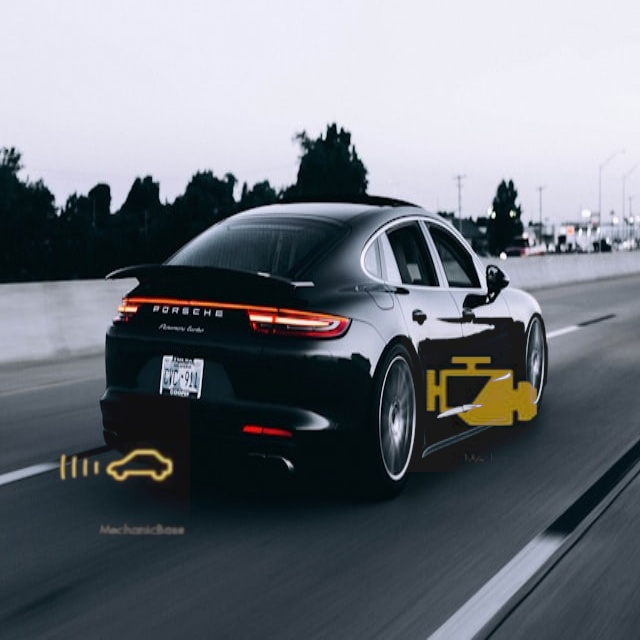symbol: (401, 312, 561, 472), (41, 393, 190, 542)
